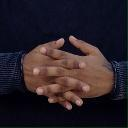hand: (32, 35, 115, 104), (21, 34, 90, 110)
